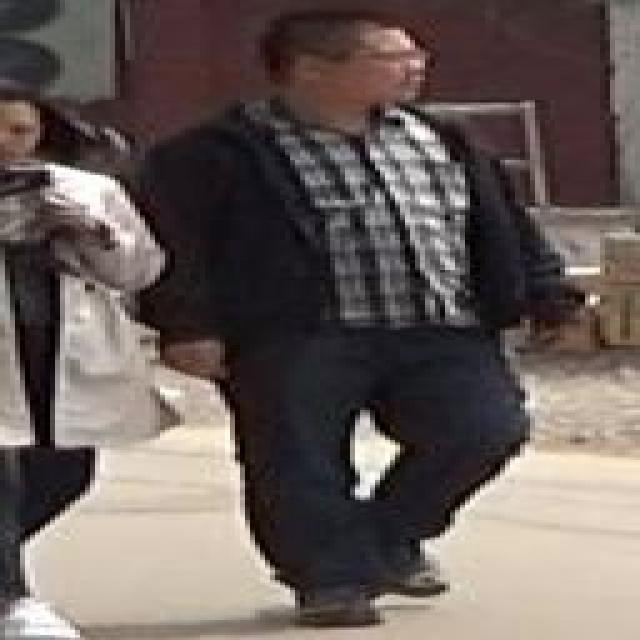adult: (113, 12, 583, 628), (0, 87, 170, 640)
